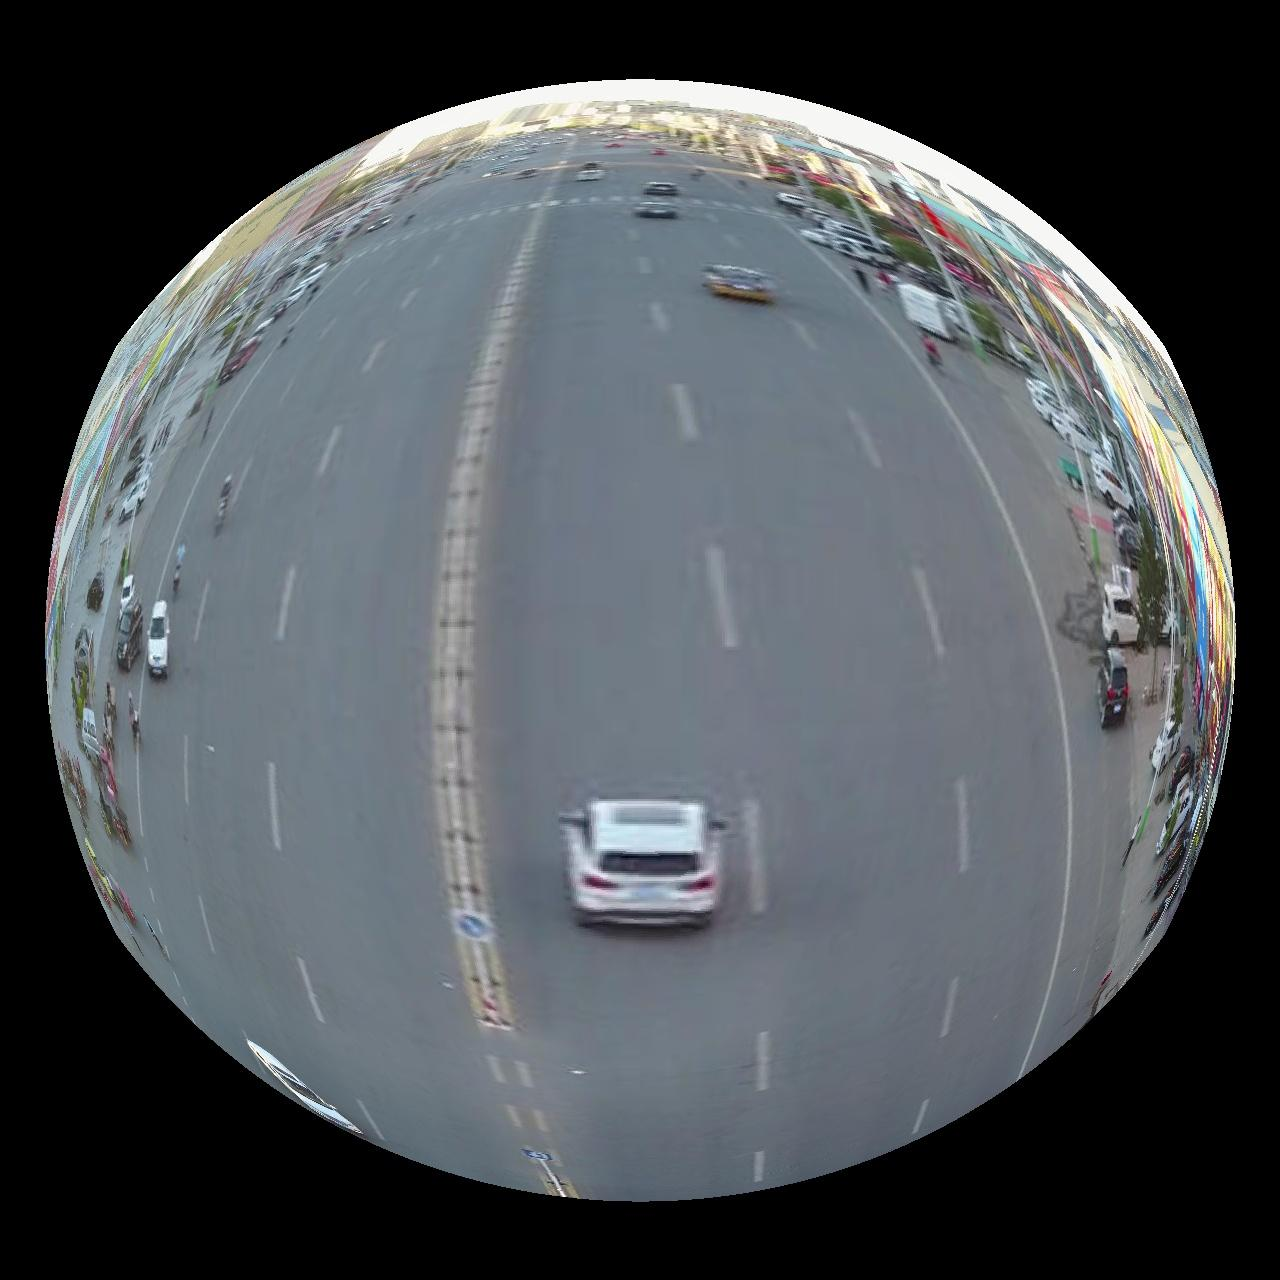cars: (559, 799, 723, 927), (246, 1041, 361, 1137), (703, 263, 778, 302), (1099, 648, 1132, 729), (144, 600, 169, 680), (633, 200, 679, 218)
